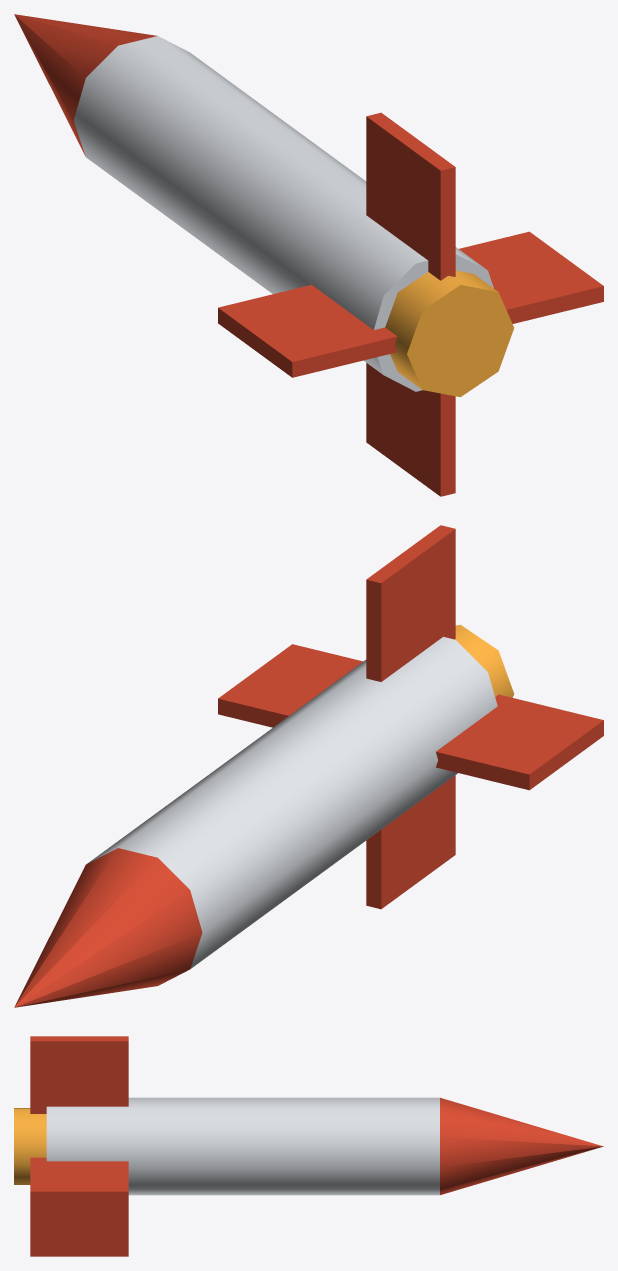
Rendered from Missile.glb.
3 views of the same model, one above another, from view 1: azimuth 30°, elevation 25°; view 2: azimuth 150°, elevation 25°; view 3: azimuth 270°, elevation 25° (orthographic). The views are drawn at different scales.
Visible parts, largest first — view 1: Missile; view 2: Missile; view 3: Missile.
Part boxes in pixels (<box>): Missile: <box>14,14,603,496</box>; Missile: <box>14,525,603,1007</box>; Missile: <box>14,1036,603,1256</box>.
Bounding box in the file's own units: 0.29 × 0.29 × 0.72.
